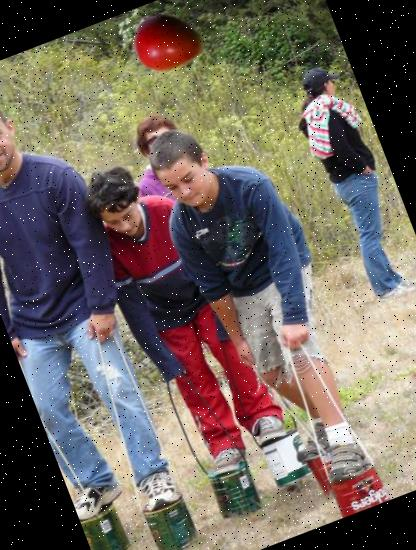Mango: (119, 0, 216, 92)
